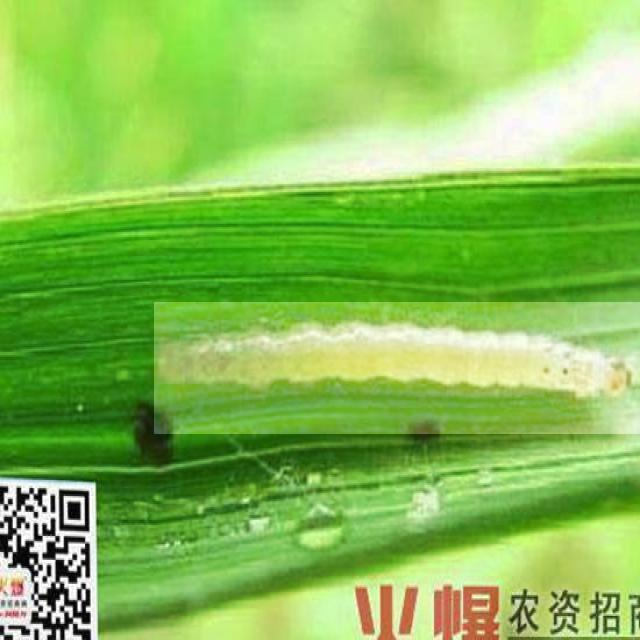leaf-folder: (154, 302, 640, 434)
